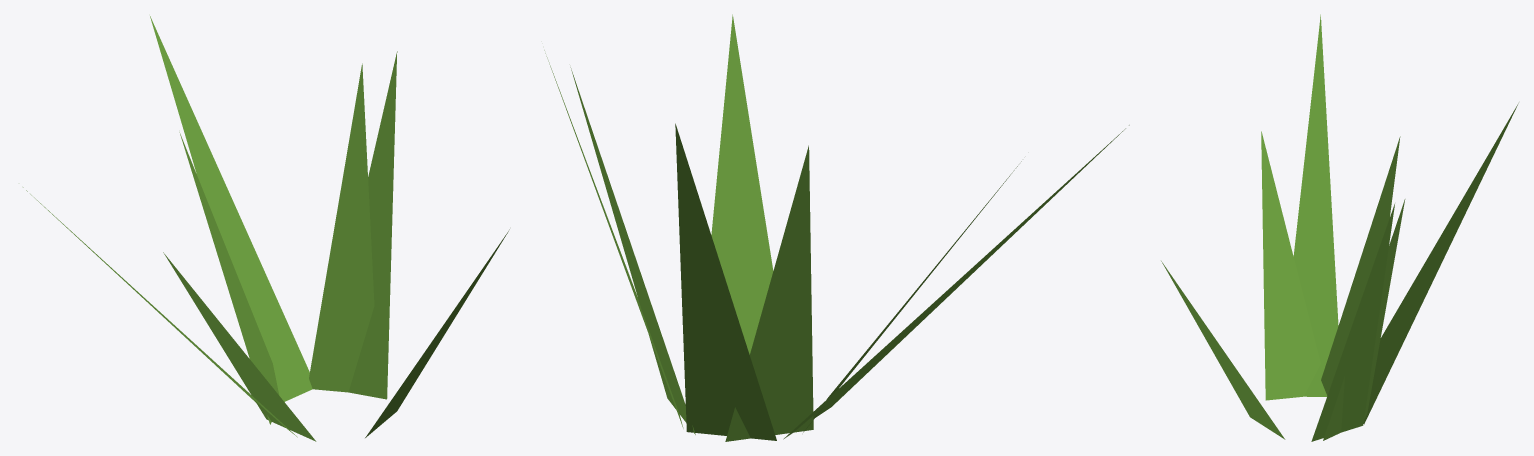
3 renders of one model, left to right at view 1: azimuth 30°, elevation 25°; view 2: azimuth 150°, elevation 25°; view 3: azimuth 270°, elevation 25°, orthographic. The views are drawn at different scales.
Visible parts, largest first — view 1: grass-tuft-b; view 2: grass-tuft-b; view 3: grass-tuft-b.
Part boxes in pixels (x1,y1,x2,y2): grass-tuft-b: (23,16,509,441); grass-tuft-b: (544,14,1129,441); grass-tuft-b: (1161,14,1518,441).
Size of the model in its own units: 0.5353 by 0.395 by 0.4446.
